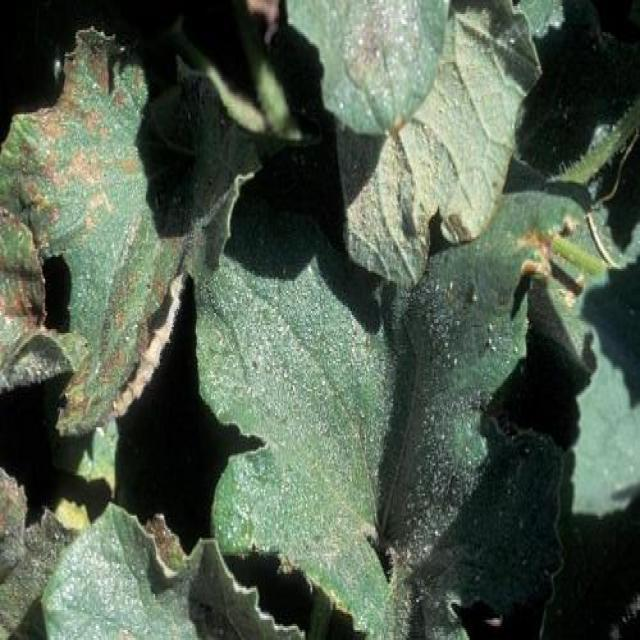Whitefly: (0, 0, 640, 640)
